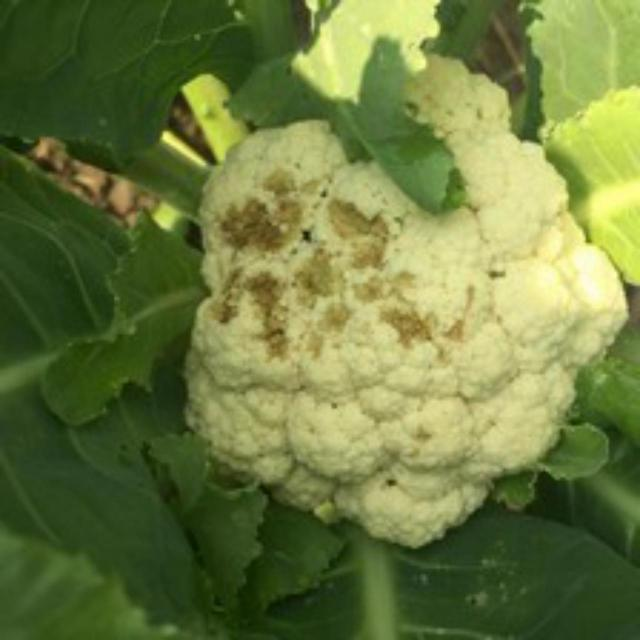cauliflower: (190, 75, 630, 556)
